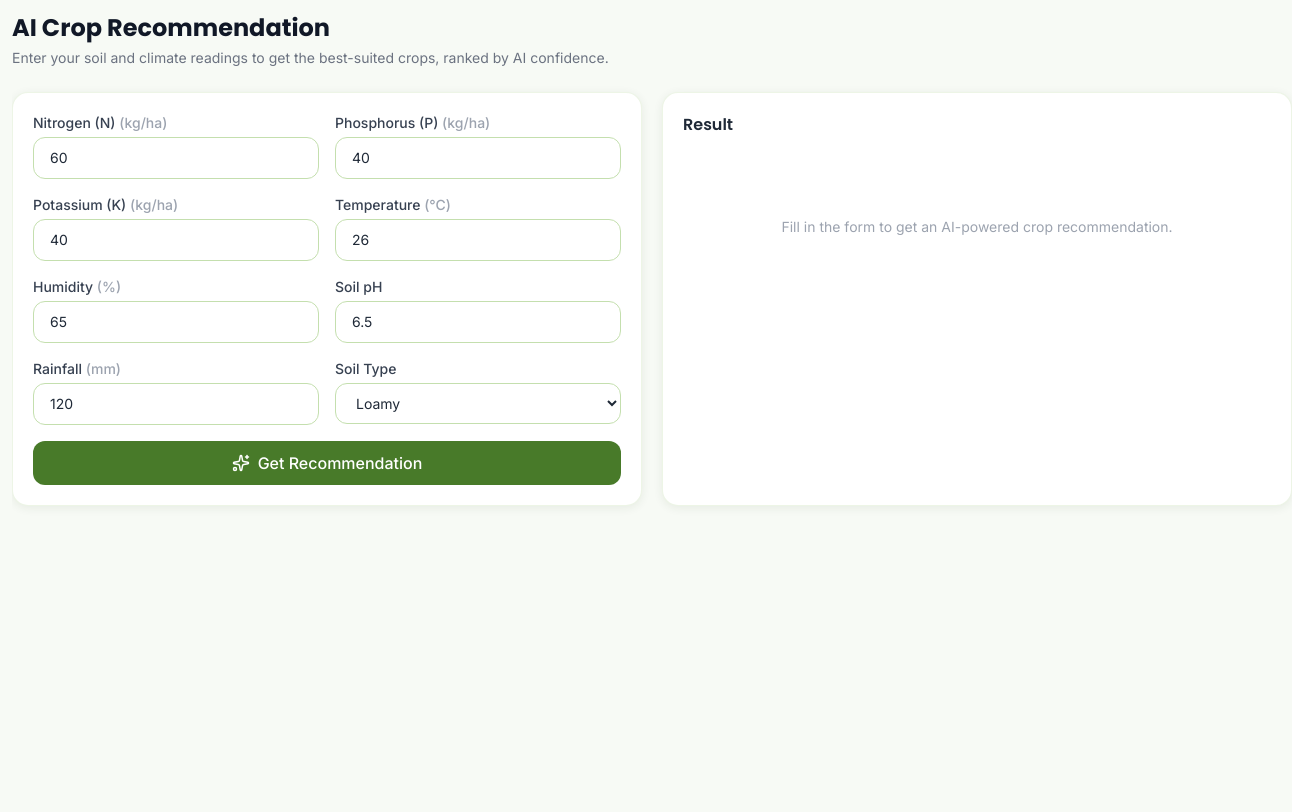
it: CropRecommendation page › shows an error message when the recommendation request fails
The width and height of the screenshot is (1292, 812).
Click the button "Get Recommendation".
click(327, 463)  # box [33,441,621,485]
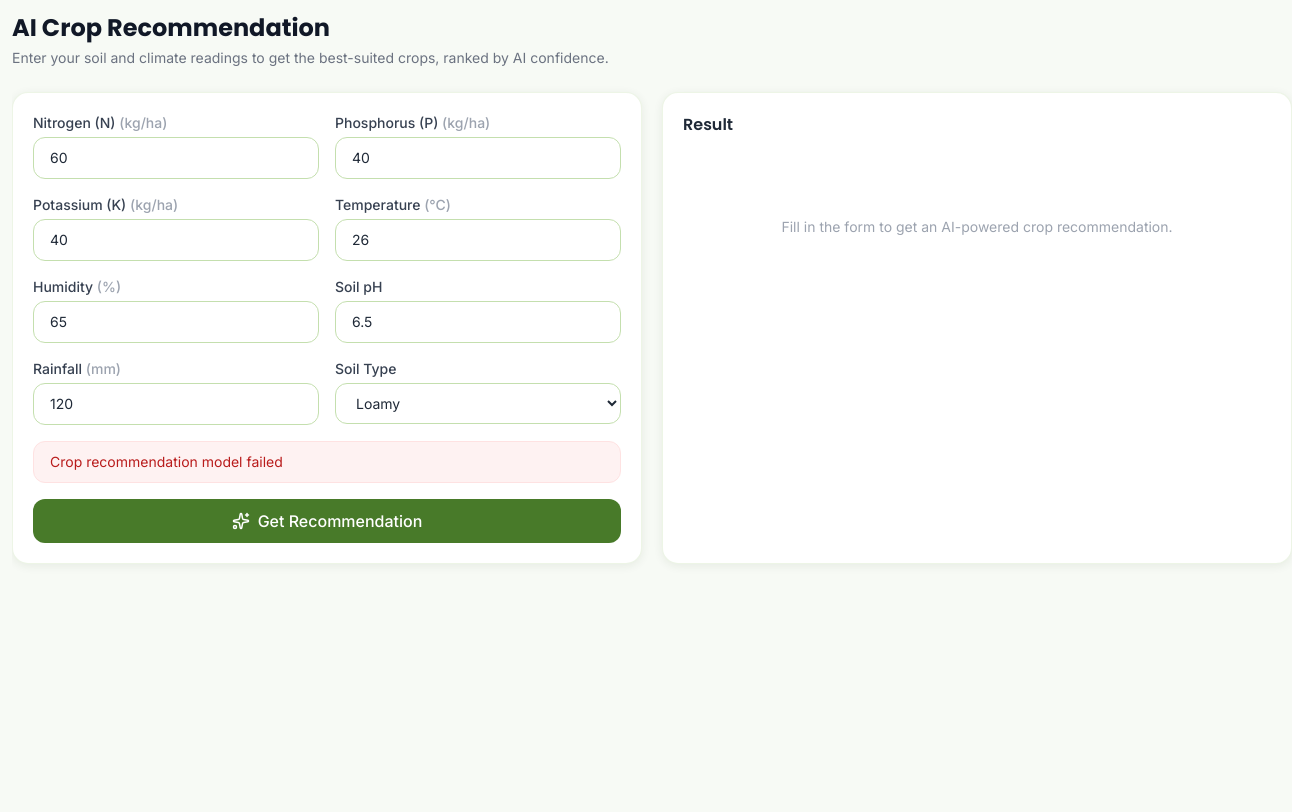
Check: the text "Crop recommendation model failed" is shown, box [33,441,621,483]
